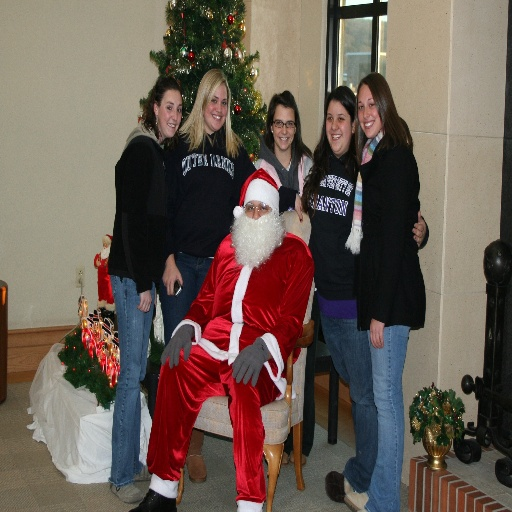hand: (150, 250, 185, 300), (158, 326, 192, 371), (231, 344, 266, 386), (411, 208, 428, 248), (369, 318, 384, 349), (136, 287, 151, 314), (292, 192, 304, 224)
